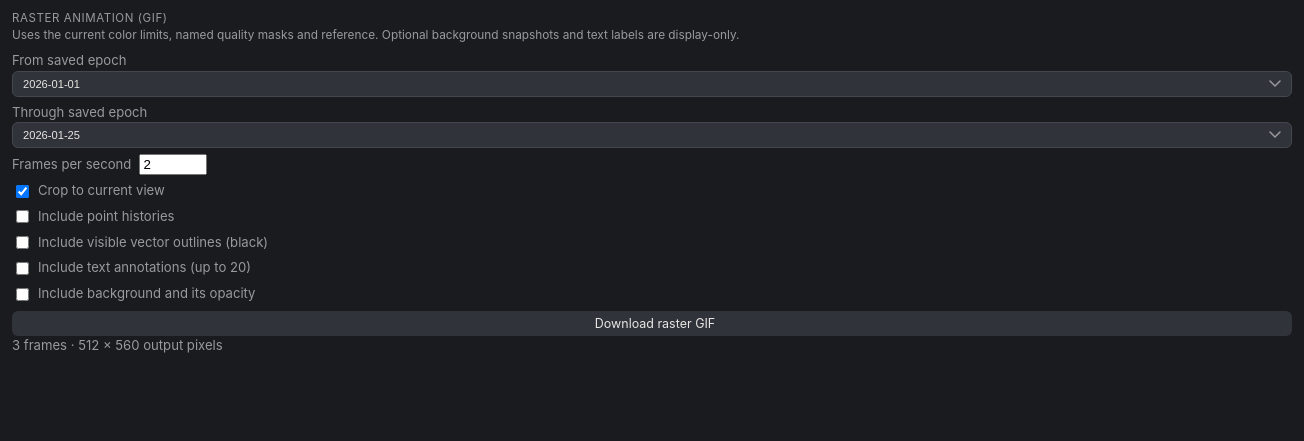
Test: raster GIF export controls › retains validated outlines when a background snapshot is included
Later steps or results of the test are not shown.
Expected: the button "Download raster GIF" is enabled, 12,311 -> 1292,336
Click the checkbox named "Include vector outlines in GIF" at [22, 243], box 16,236 -> 29,249
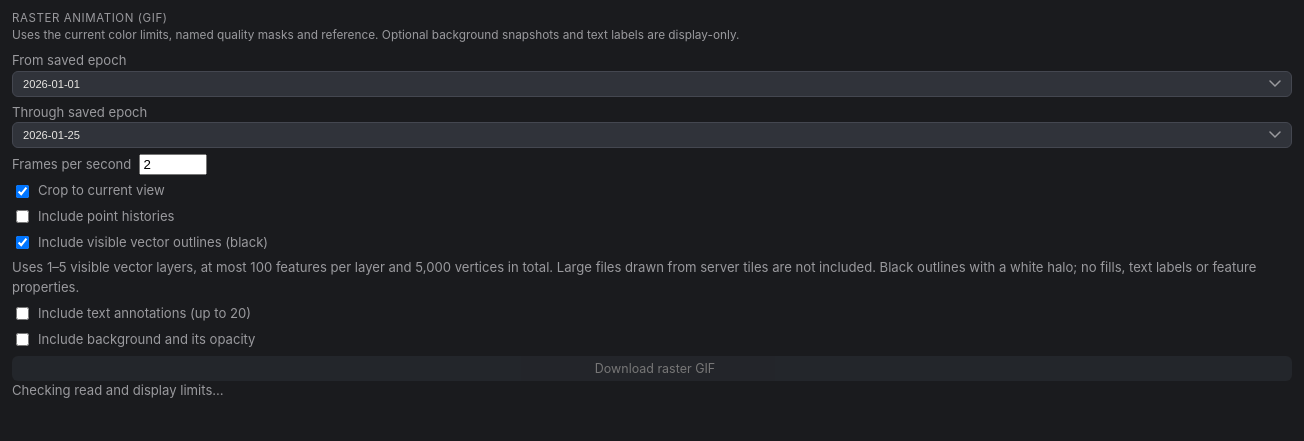
Click the checkbox labelled "Include background and its opacity" at [22, 339], box 16,333 -> 29,346
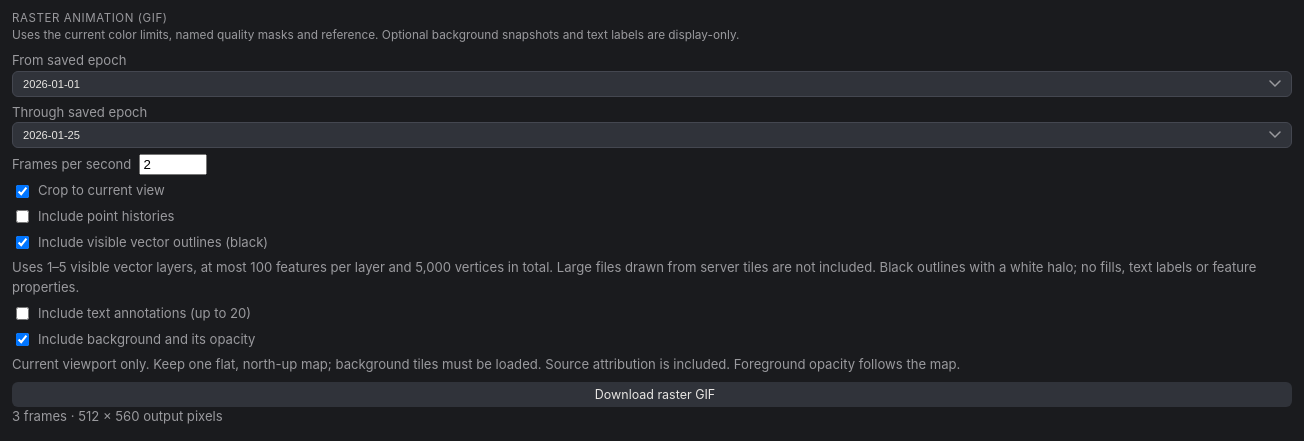
Expected: the button "Download raster GIF" is enabled, 12,382 -> 1292,407
